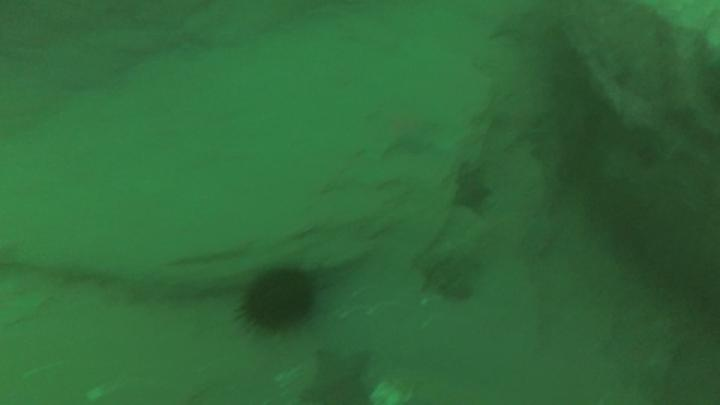echinus: (231, 259, 331, 340)
starfish: (480, 93, 556, 155), (515, 213, 569, 270), (376, 115, 438, 162), (446, 167, 492, 222), (556, 99, 608, 145)
